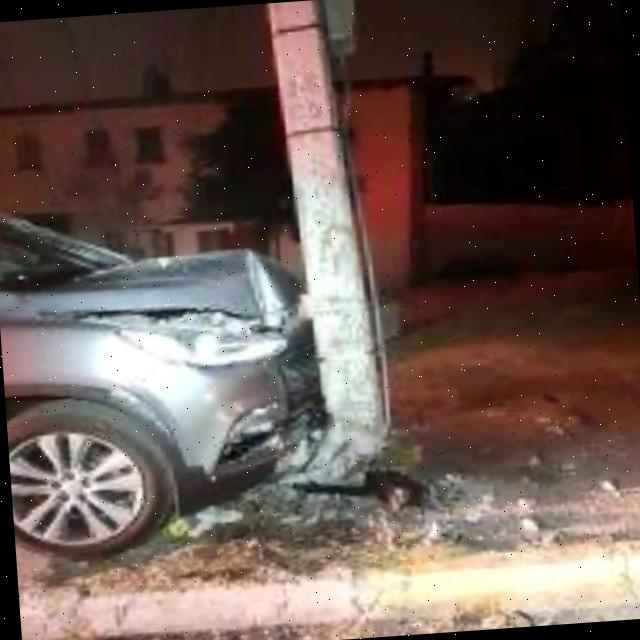Broken Pole: (258, 0, 393, 500)
